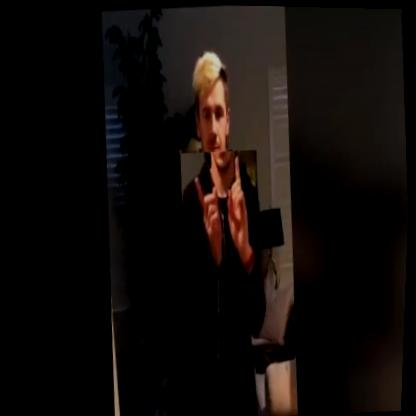NiceToMeetYou: (178, 148, 267, 282)
